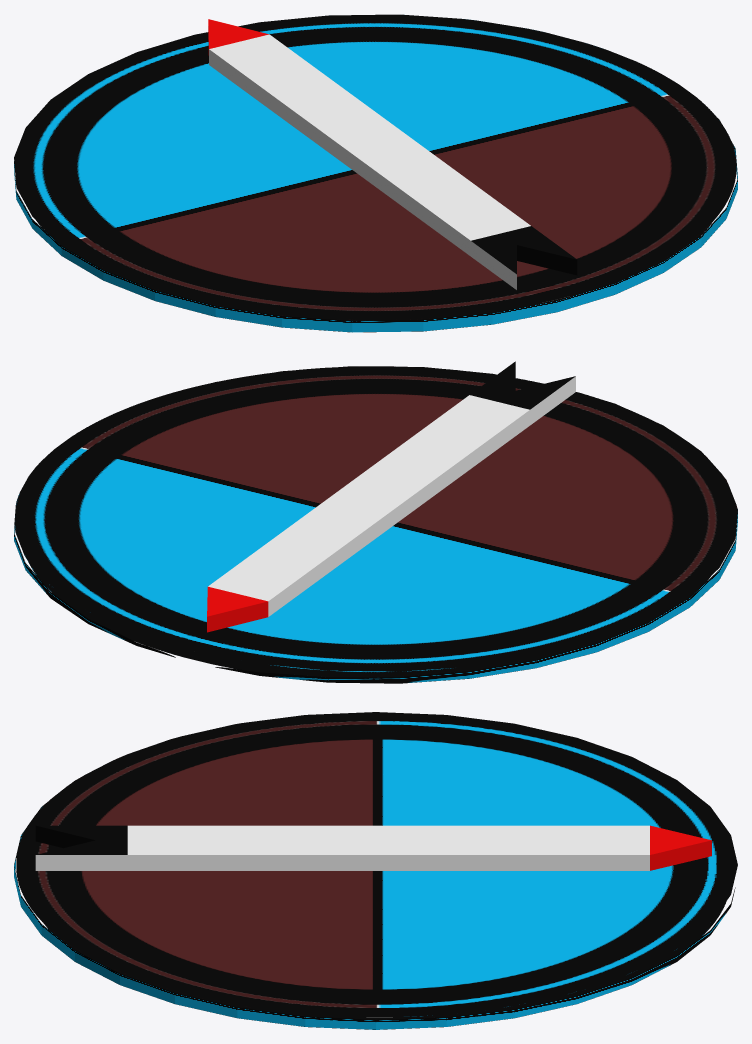
The model's file is CompassY.fbx.
3 views of the same model, one above another, from view 1: azimuth 30°, elevation 25°; view 2: azimuth 150°, elevation 25°; view 3: azimuth 270°, elevation 25° (orthographic).
Visible parts, largest first — view 1: compas, strek; view 2: compas, strek; view 3: compas, strek.
Boxes of the visible parts, x1,y1,x2,y2 form: compas: (14,14,737,332); strek: (208,19,577,289); compas: (14,366,737,683); strek: (207,361,575,632); compas: (14,712,737,1029); strek: (35,825,711,870).
Size of the model in its own units: 236 by 13.29 by 236.
